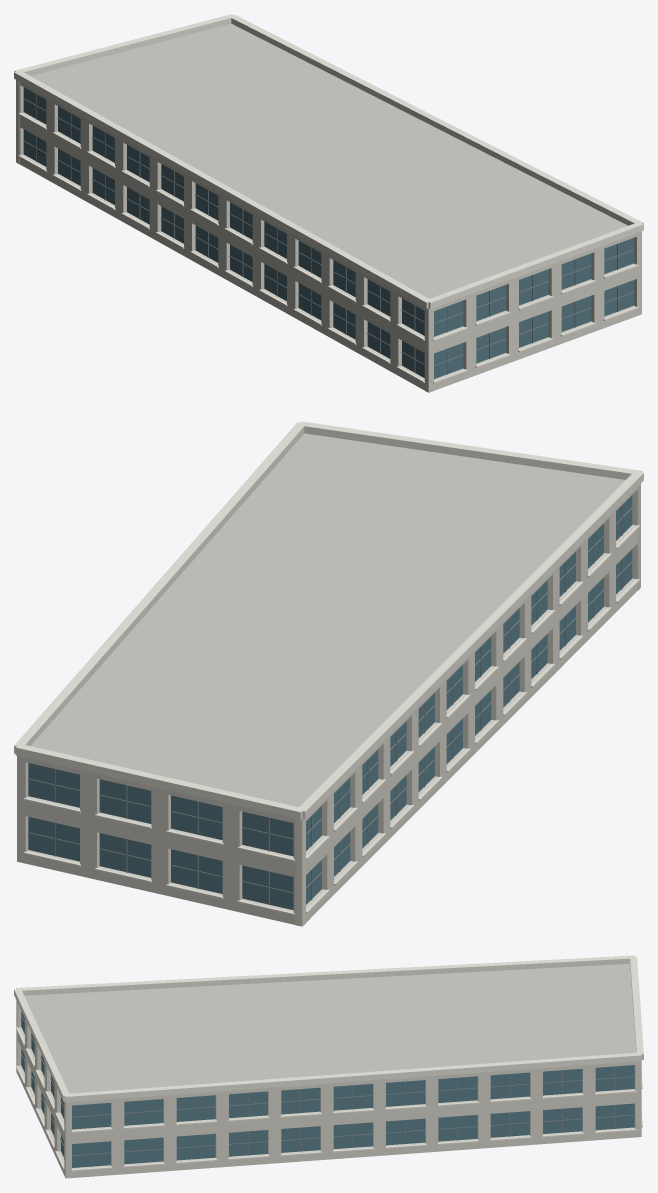
The picture shows the model from 3 angles, top to bottom: view 1: azimuth 30°, elevation 25°; view 2: azimuth 150°, elevation 25°; view 3: azimuth 270°, elevation 25°; orthographic projection. The views are drawn at different scales.
Parts seen in each view (by area): view 1: roof, wall, glass, trim, metal; view 2: roof, wall, trim, glass, metal; view 3: roof, wall, glass, trim, metal.
Boxes of the visible parts, x1=… form: roof: x1=31, y1=23, x2=627, y2=298; wall: x1=16, y1=80, x2=641, y2=392; glass: x1=23, y1=87, x2=633, y2=378; trim: x1=14, y1=14, x2=643, y2=383; metal: x1=23, y1=94, x2=634, y2=374; roof: x1=31, y1=433, x2=625, y2=806; wall: x1=17, y1=484, x2=640, y2=926; trim: x1=14, y1=421, x2=643, y2=915; glass: x1=28, y1=495, x2=632, y2=910; metal: x1=28, y1=505, x2=633, y2=904; roof: x1=24, y1=963, x2=636, y2=1093; wall: x1=16, y1=1000, x2=641, y2=1178; glass: x1=21, y1=1011, x2=634, y2=1167; trim: x1=14, y1=955, x2=643, y2=1171; metal: x1=21, y1=1014, x2=634, y2=1166.
Size of the model in its own units: 23.64 by 6.44 by 44.48.
